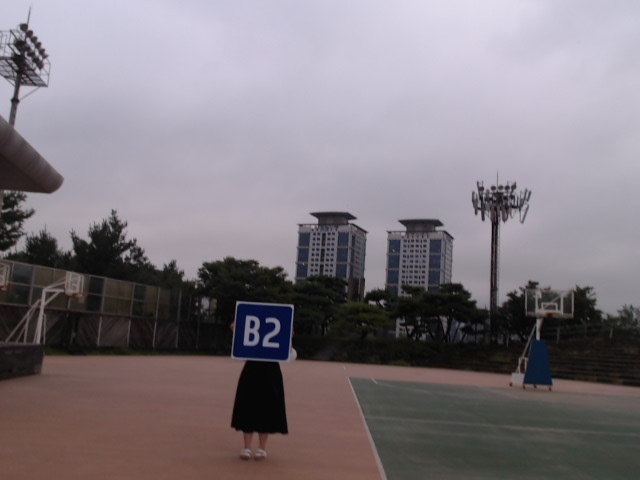delivery_b2: (231, 302, 294, 362)
